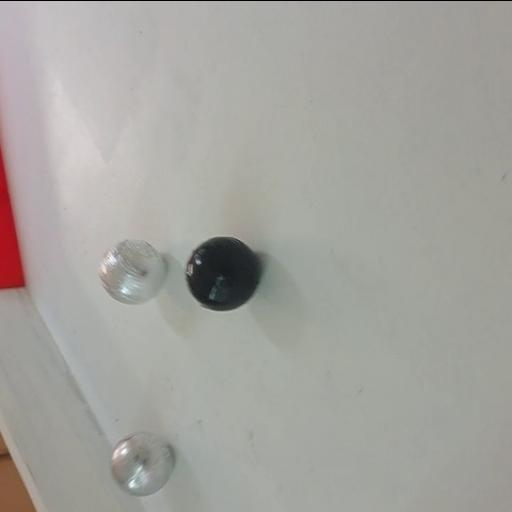alive: (96, 234, 168, 306), (110, 429, 174, 496)
dead: (182, 232, 262, 312)
